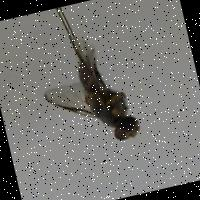Oriental-fruit-fly: (26, 40, 142, 164)
